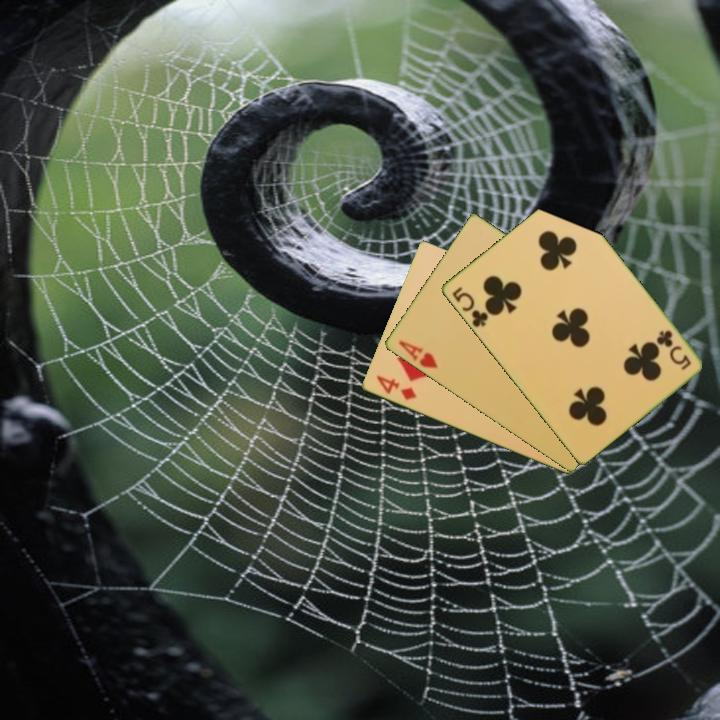4d: (372, 372, 420, 403)
5c: (448, 283, 491, 330), (652, 326, 693, 373)
Ah: (394, 337, 440, 371)
